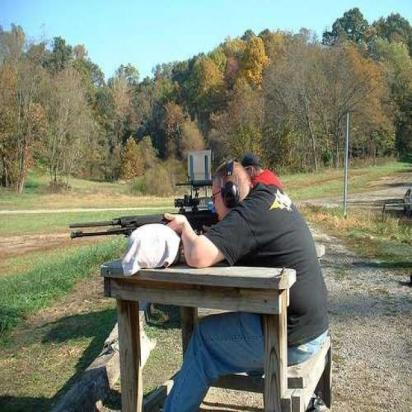Gun: (59, 191, 230, 250)
